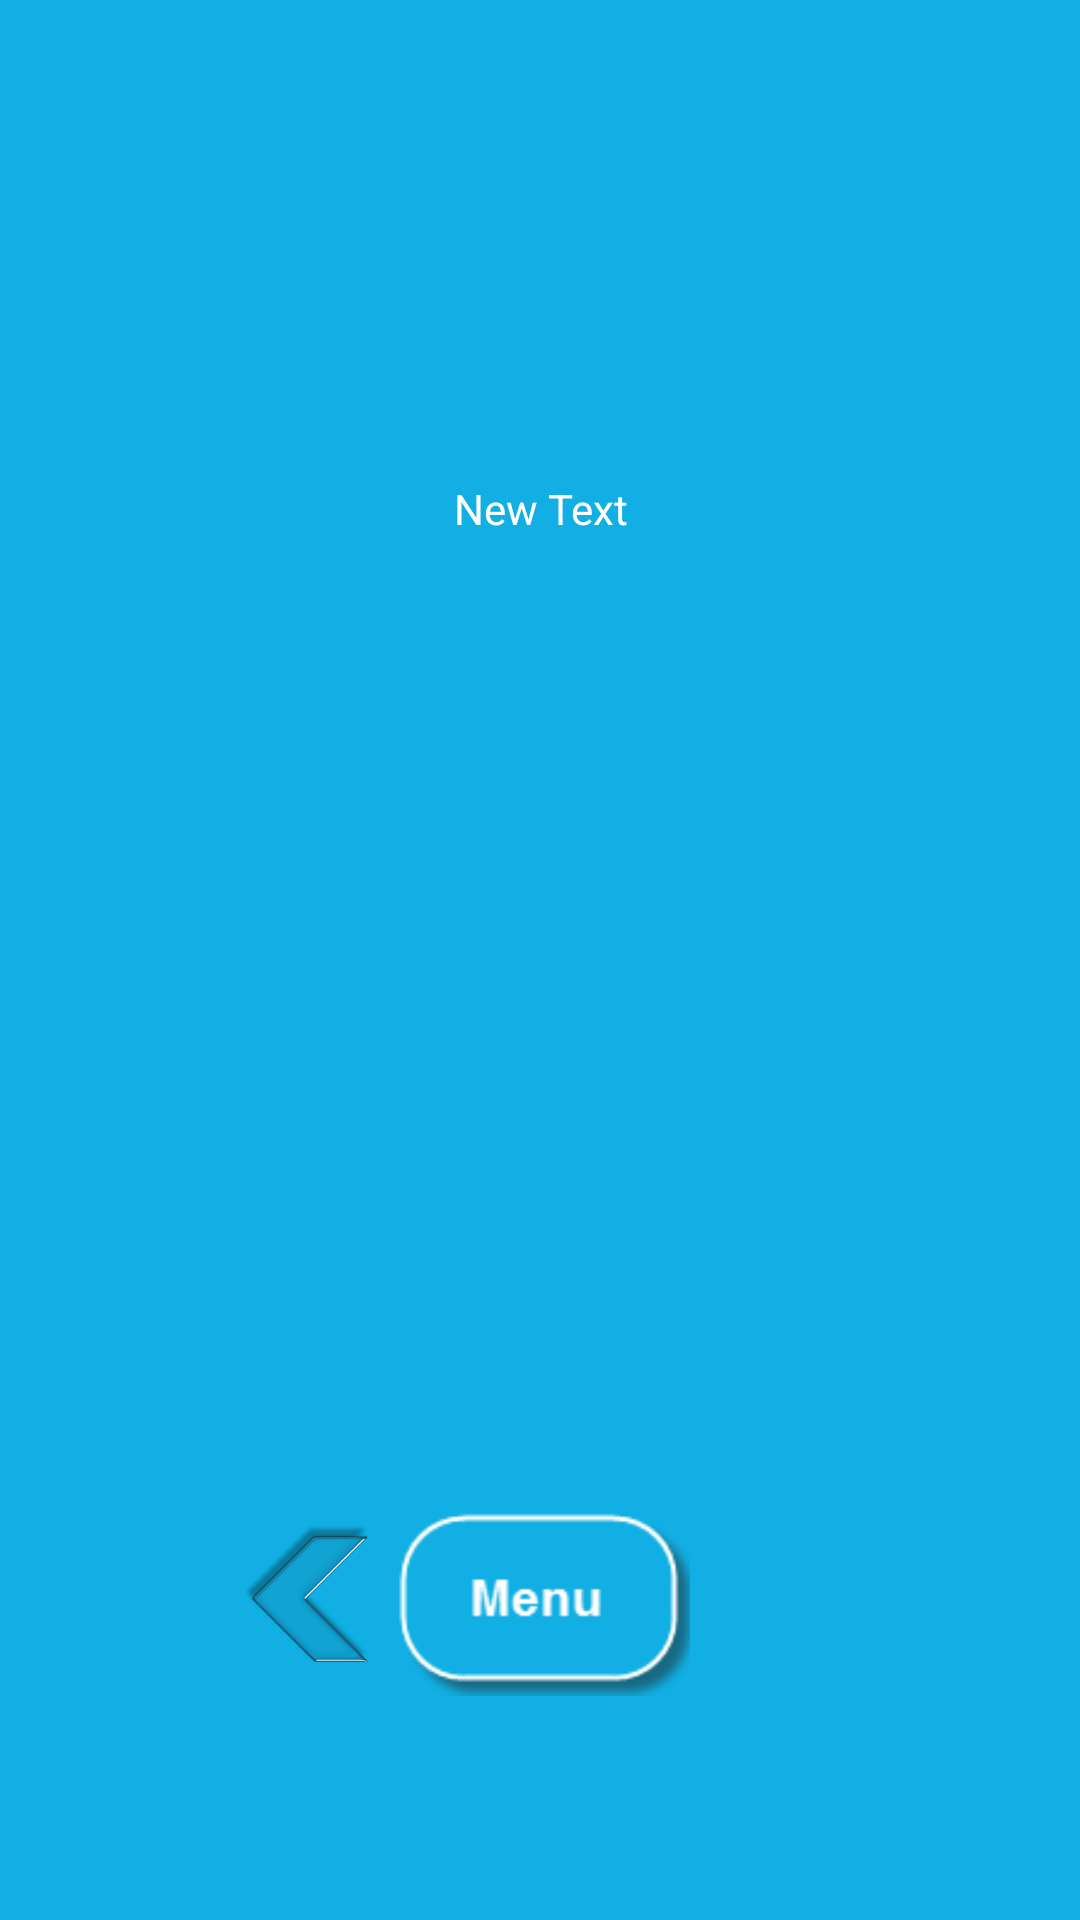

Named icons in this screenshot (1080px x 1920px) and their bounding boxes, (x1, y1, x2, y2):
arrow left: (248, 1528, 368, 1662)
